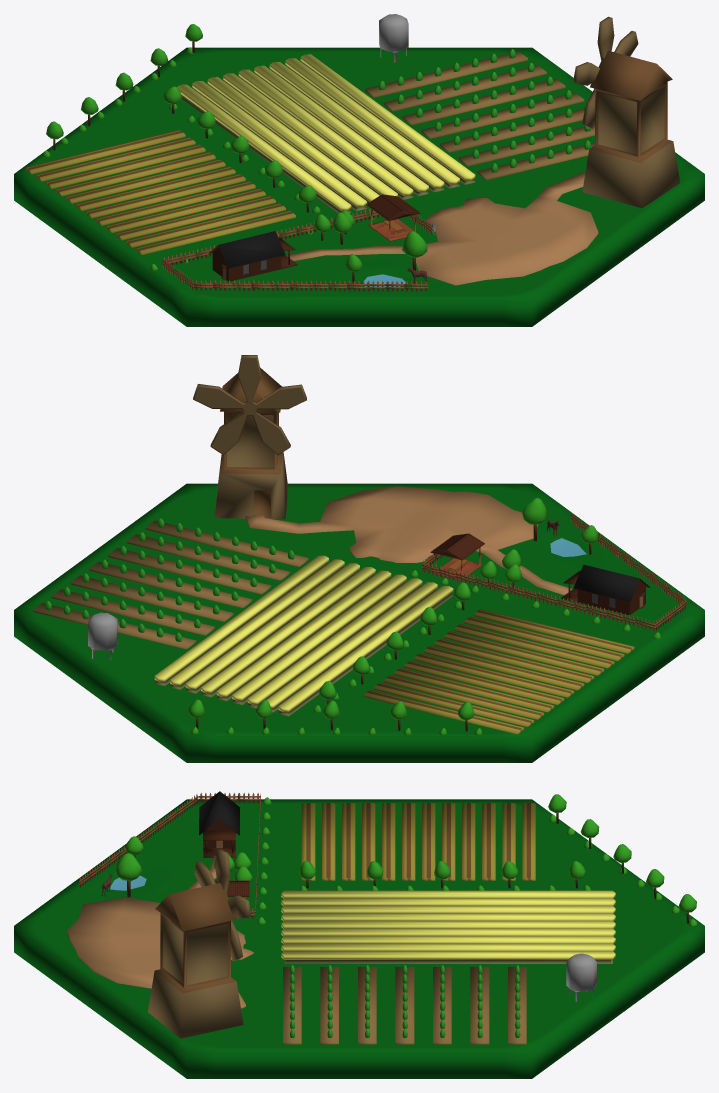
The model's file is Farm.fbx.
The picture shows the model from 3 angles, top to bottom: view 1: azimuth 30°, elevation 25°; view 2: azimuth 150°, elevation 25°; view 3: azimuth 270°, elevation 25°; orthographic projection.
Parts seen in each view (by area): view 1: Cylinder.005; view 2: Cylinder.005; view 3: Cylinder.005.
Part boxes in pixels (<box>): Cylinder.005: <box>14,14,704,326</box>; Cylinder.005: <box>14,355,704,762</box>; Cylinder.005: <box>14,791,704,1078</box>.
Size of the model in its own units: 116 by 100 by 34.59.
